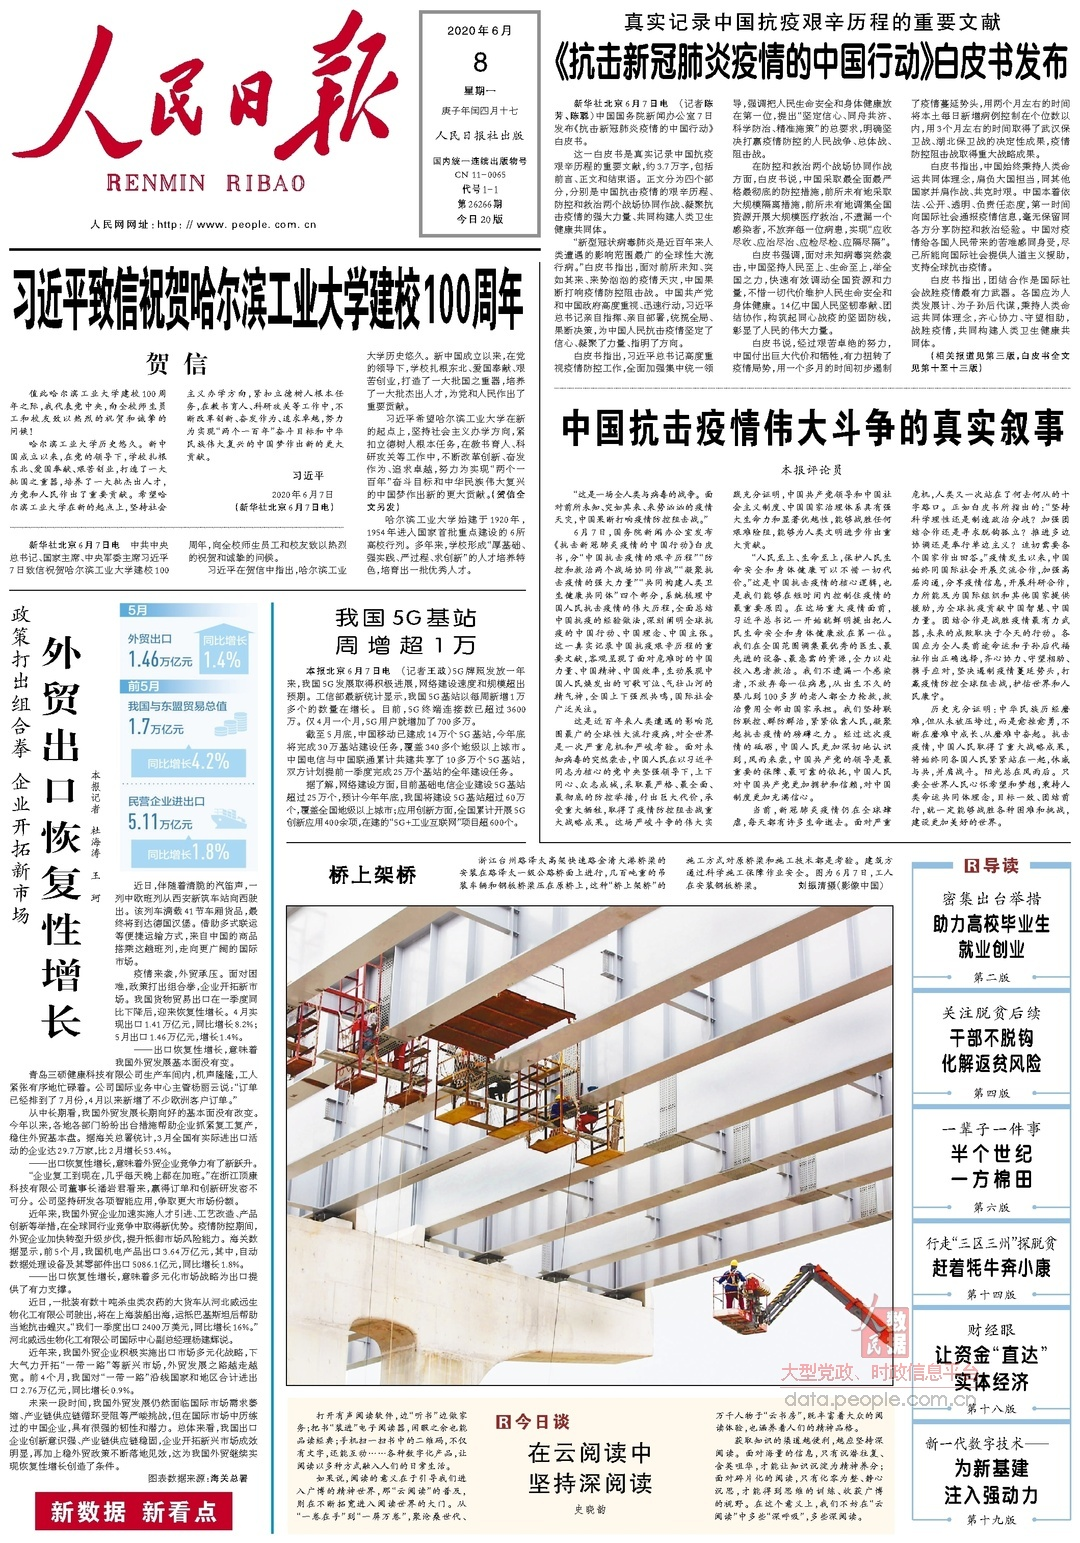pic: (284, 900, 898, 1388)
